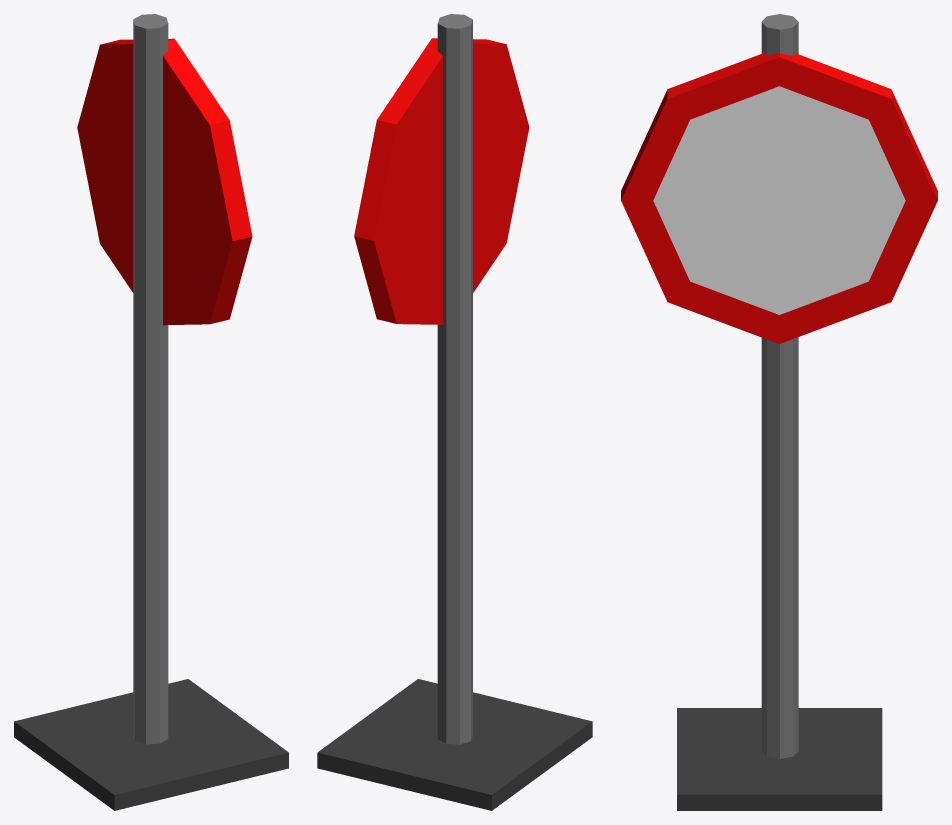
The model's file is traffic_Sign_01.fbx.
3 views of the same model, side by side, from view 1: azimuth 30°, elevation 25°; view 2: azimuth 150°, elevation 25°; view 3: azimuth 270°, elevation 25° (orthographic).
Parts seen in each view (by area): view 1: traffic_Sign_01; view 2: traffic_Sign_01; view 3: traffic_Sign_01.
Part boxes in pixels (box(x1,y1,x2,y2)): traffic_Sign_01: box(14, 14, 288, 810); traffic_Sign_01: box(317, 14, 592, 810); traffic_Sign_01: box(621, 14, 937, 810).
Bounding box in the file's own units: 60.75 × 244 × 93.82.
